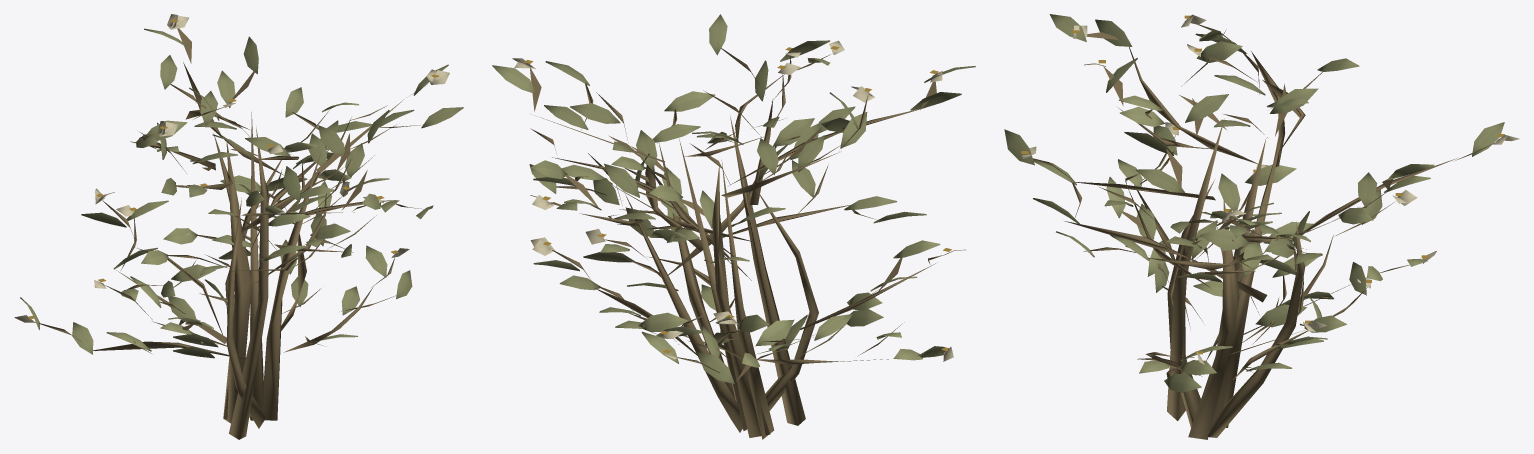
File: Ciste_1_LOD2.fbx
3 renders of one model, left to right at view 1: azimuth 30°, elevation 25°; view 2: azimuth 150°, elevation 25°; view 3: azimuth 270°, elevation 25°, orthographic. The views are drawn at different scales.
Parts seen in each view (by area): view 1: Ciste_1_LOD2; view 2: Ciste_1_LOD2; view 3: Ciste_1_LOD2.
Boxes of the visible parts, x1,y1,x2,y2 form: Ciste_1_LOD2: (14, 14, 463, 439); Ciste_1_LOD2: (492, 14, 975, 439); Ciste_1_LOD2: (1004, 14, 1519, 439).
Size of the model in its own units: 135 by 101 by 126.
